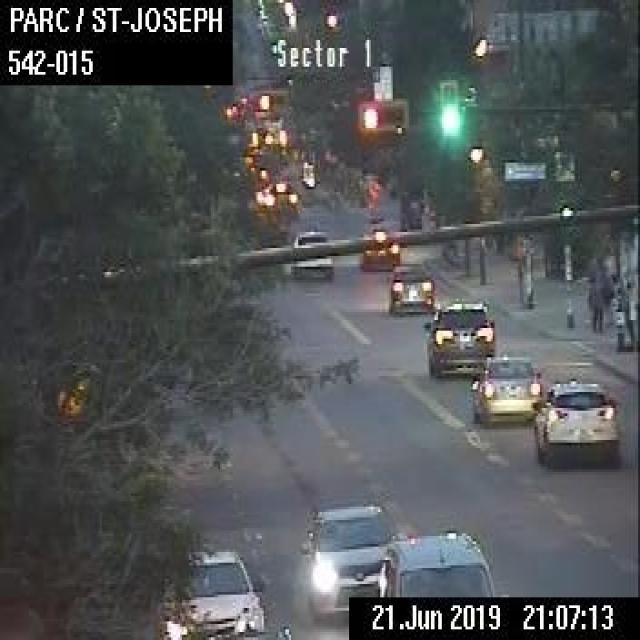pedestrian: (586, 267, 602, 332)
vehicle: (300, 498, 405, 622), (156, 541, 265, 637), (377, 526, 495, 594), (531, 381, 622, 464), (422, 299, 493, 374), (470, 355, 540, 422), (287, 224, 333, 277), (386, 262, 432, 313), (256, 176, 296, 217), (359, 227, 398, 269)
